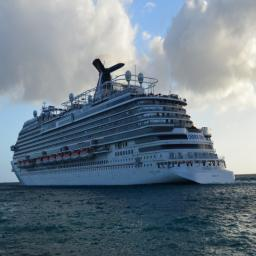cruises: (10, 56, 238, 192)
